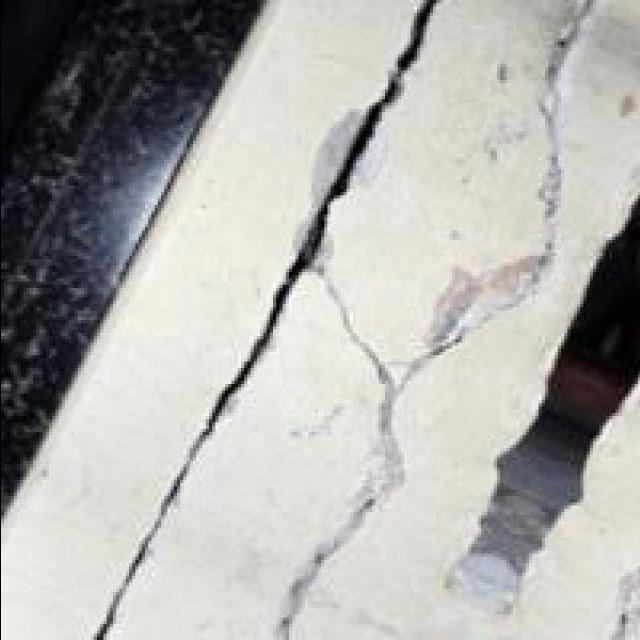SurfaceCrack: (102, 0, 450, 640)
